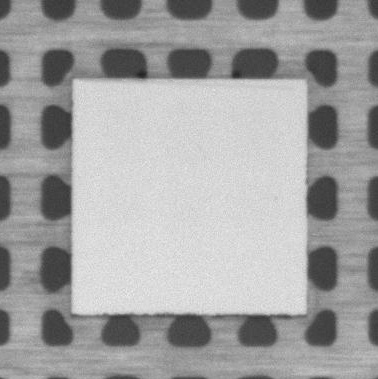DIE_CRACK: (80, 80, 291, 88)
